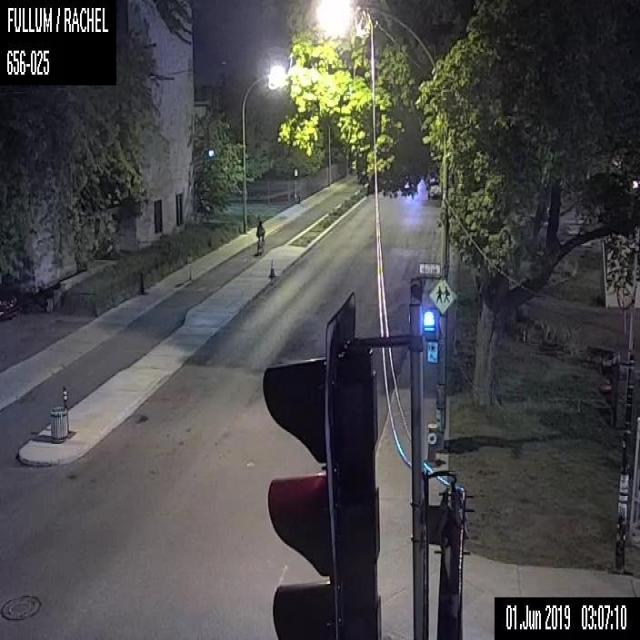construction: (268, 257, 275, 277)
cyclist: (255, 218, 265, 254)
vehicle: (0, 289, 17, 319), (427, 178, 441, 196)
